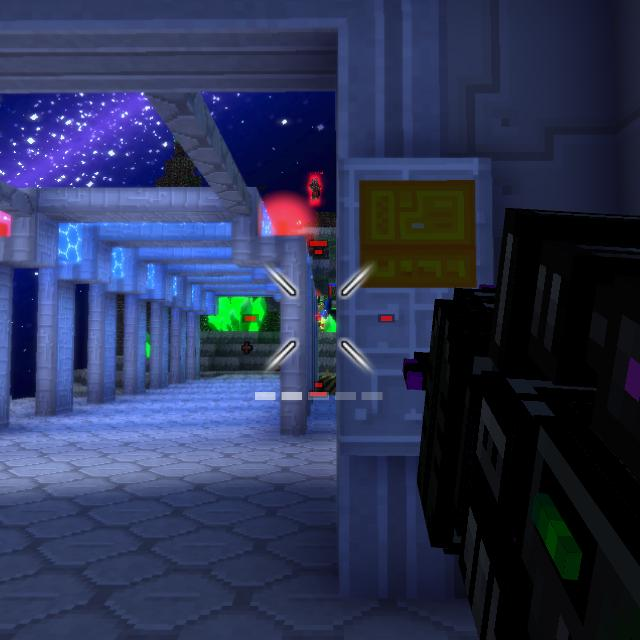Enemy: (308, 177, 322, 200)
